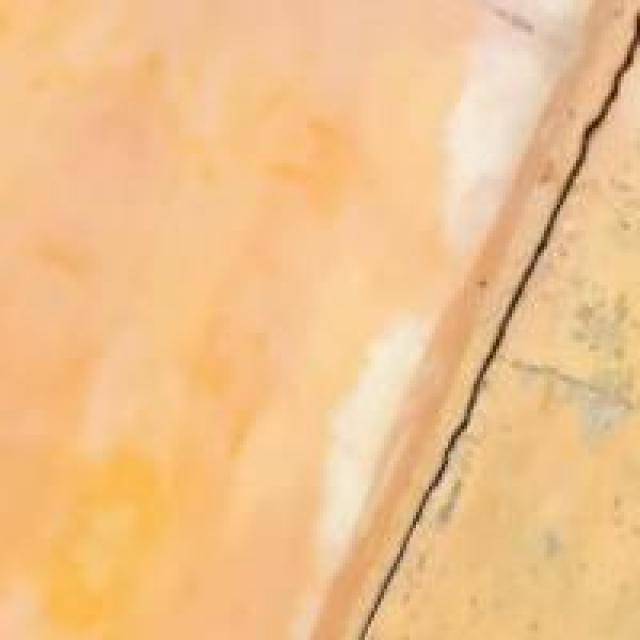Crack: (323, 3, 637, 637)
